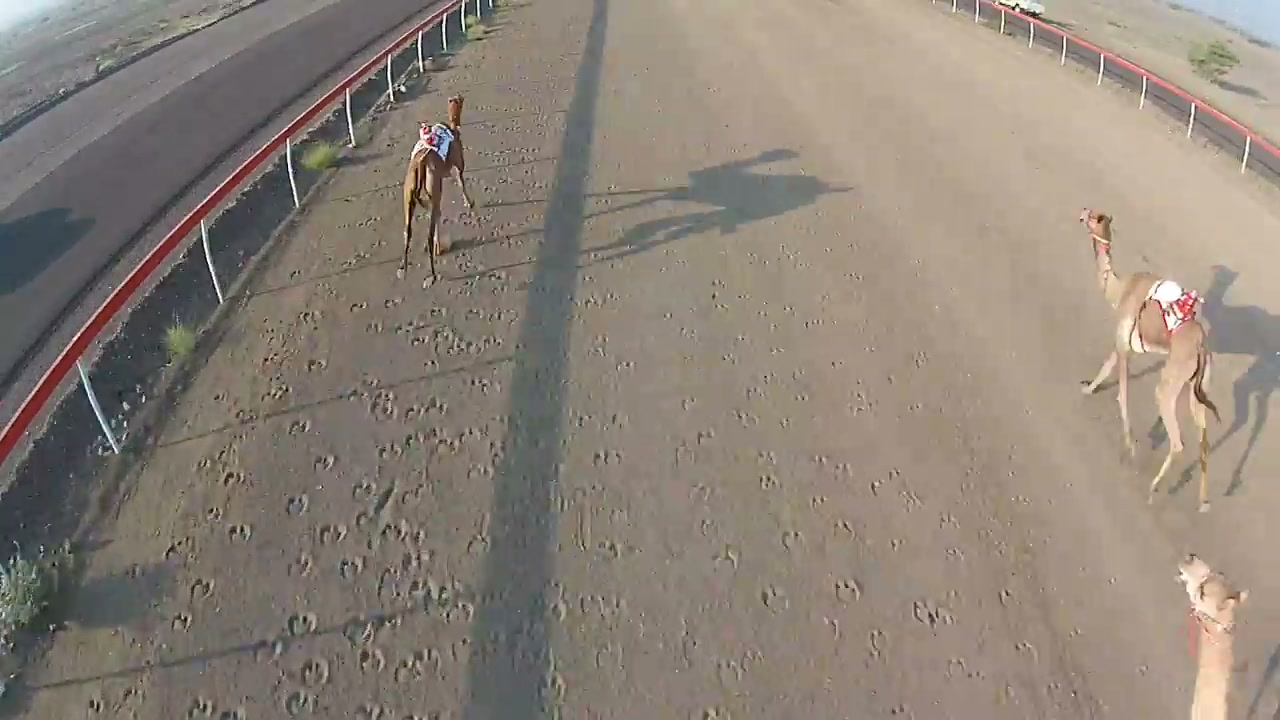animal_footprint: (93, 268, 489, 711), (680, 233, 1071, 669)
